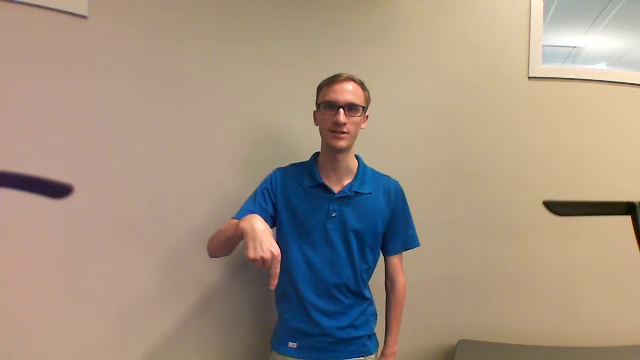down: (234, 213, 283, 292)
